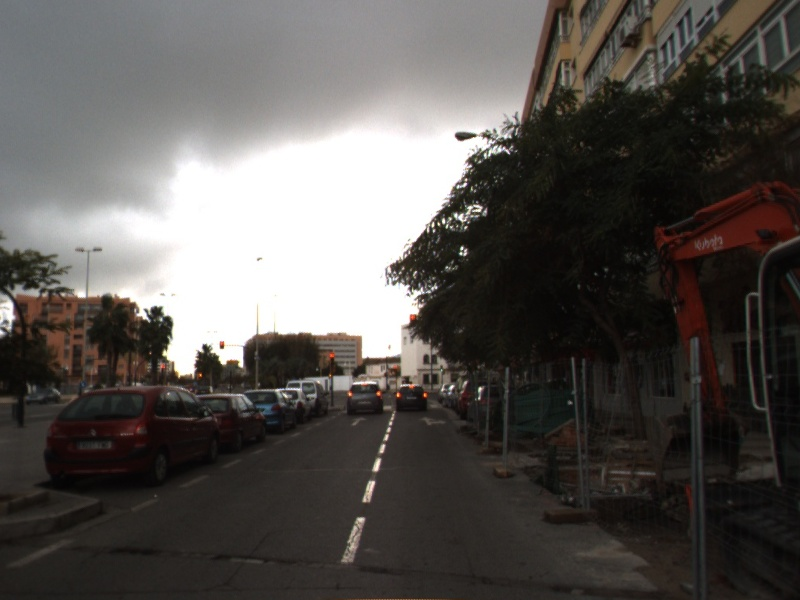STRAIGHT: (349, 416, 369, 427)
STRAIGHT_RIGHT: (417, 414, 449, 427)
